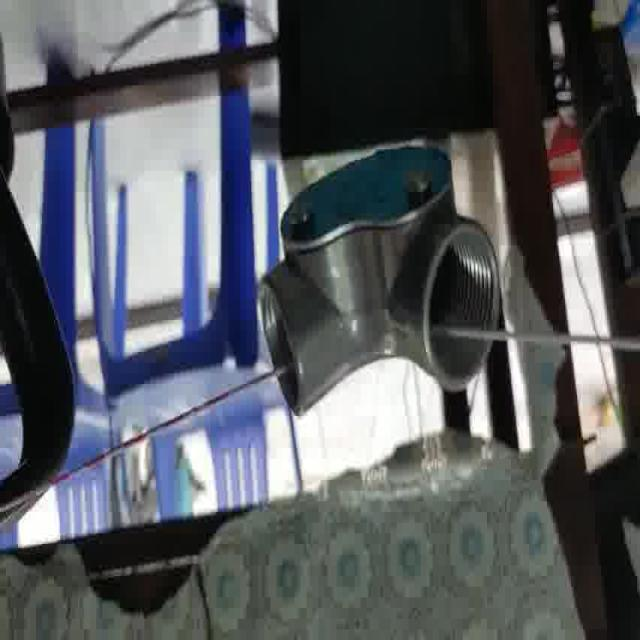Dry: (256, 146, 499, 408)
